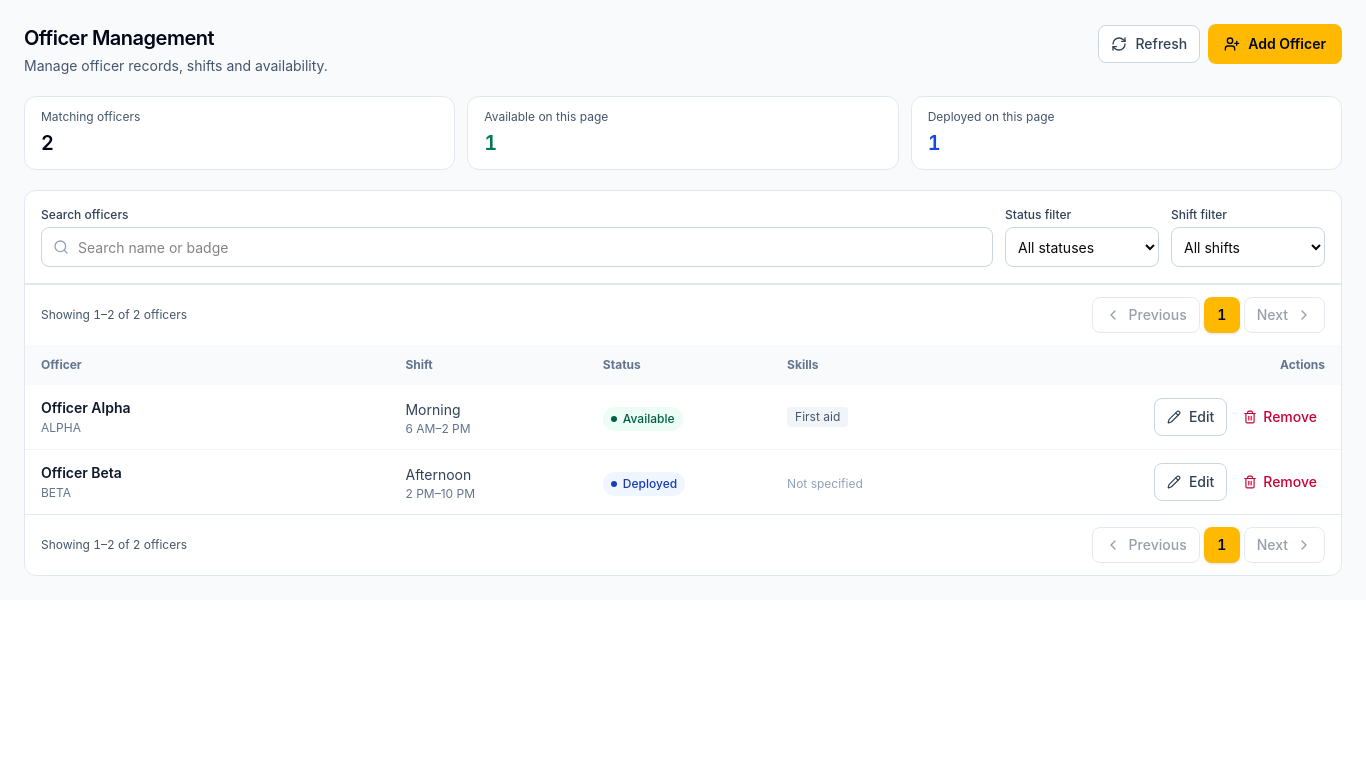
Scenario: can find a saved officer after the post-create refresh failed without creating the officer again
This screenshot has width=1366, height=768.
Expected: the button with aria-label "Edit Officer Alpha" is shown, [1154,398,1227,436]
Click the button "Add Officer".
click(1275, 44)  # box [1208,24,1342,64]
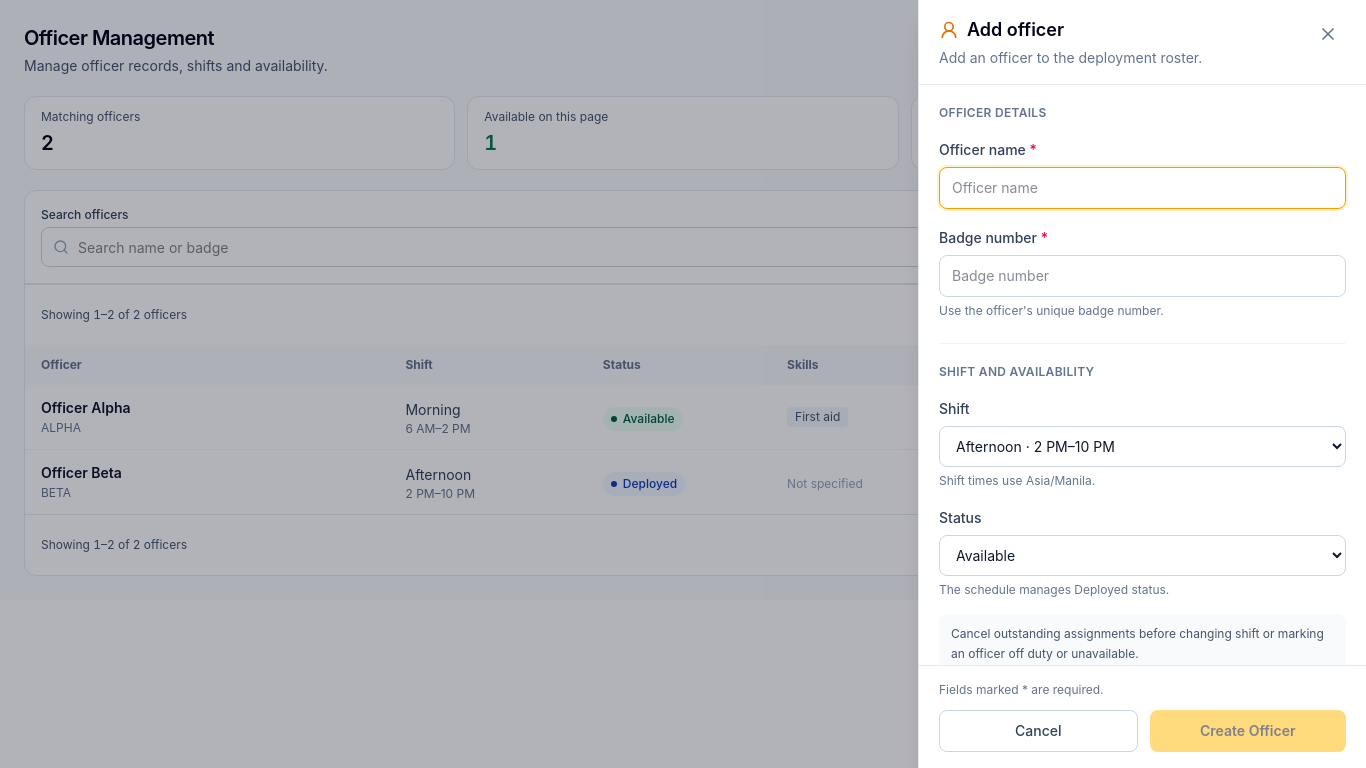
Type "Officer Gamma" into the field labelled "Officer name *".
click(1142, 188); type("Officer Gamma")  # box [939,167,1346,209]
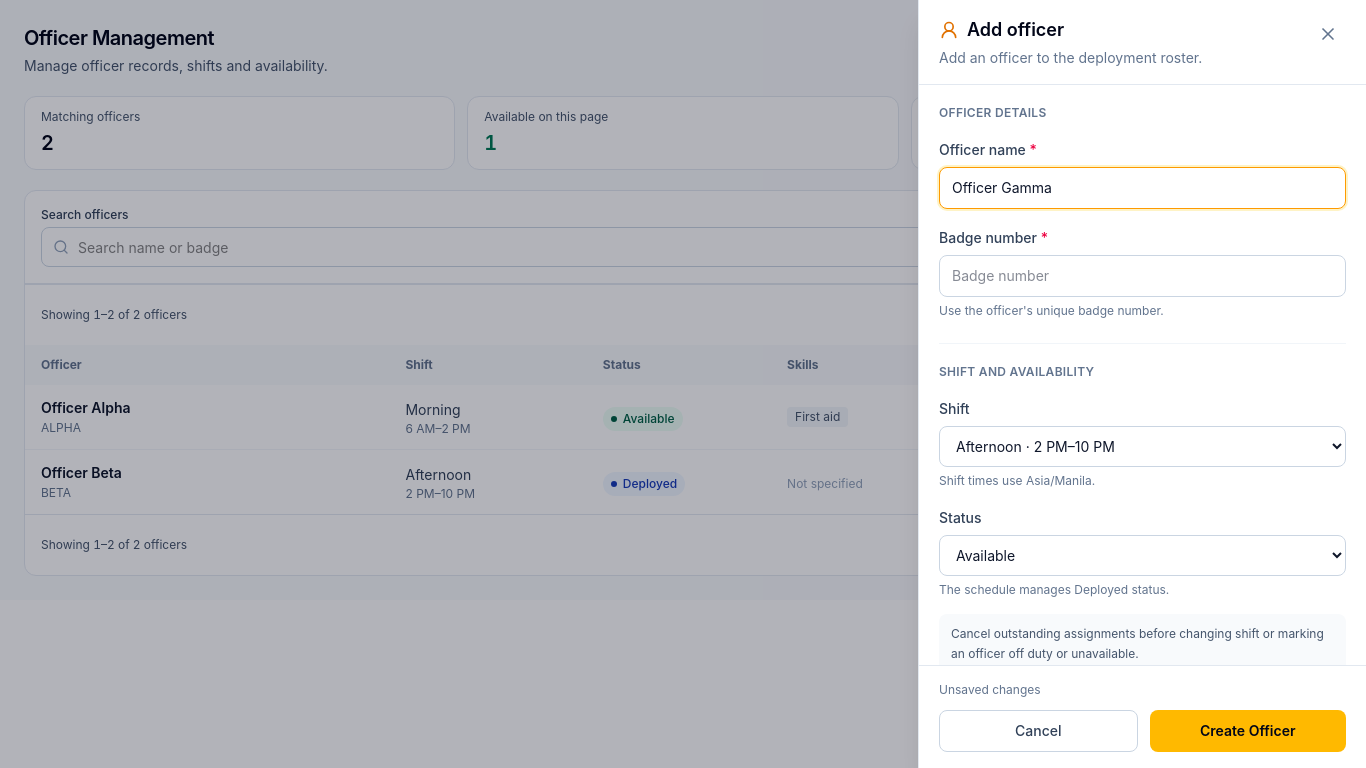
Type "GAMMA" into the field labelled "Badge number *".
click(1142, 276); type("GAMMA")  # box [939,255,1346,297]
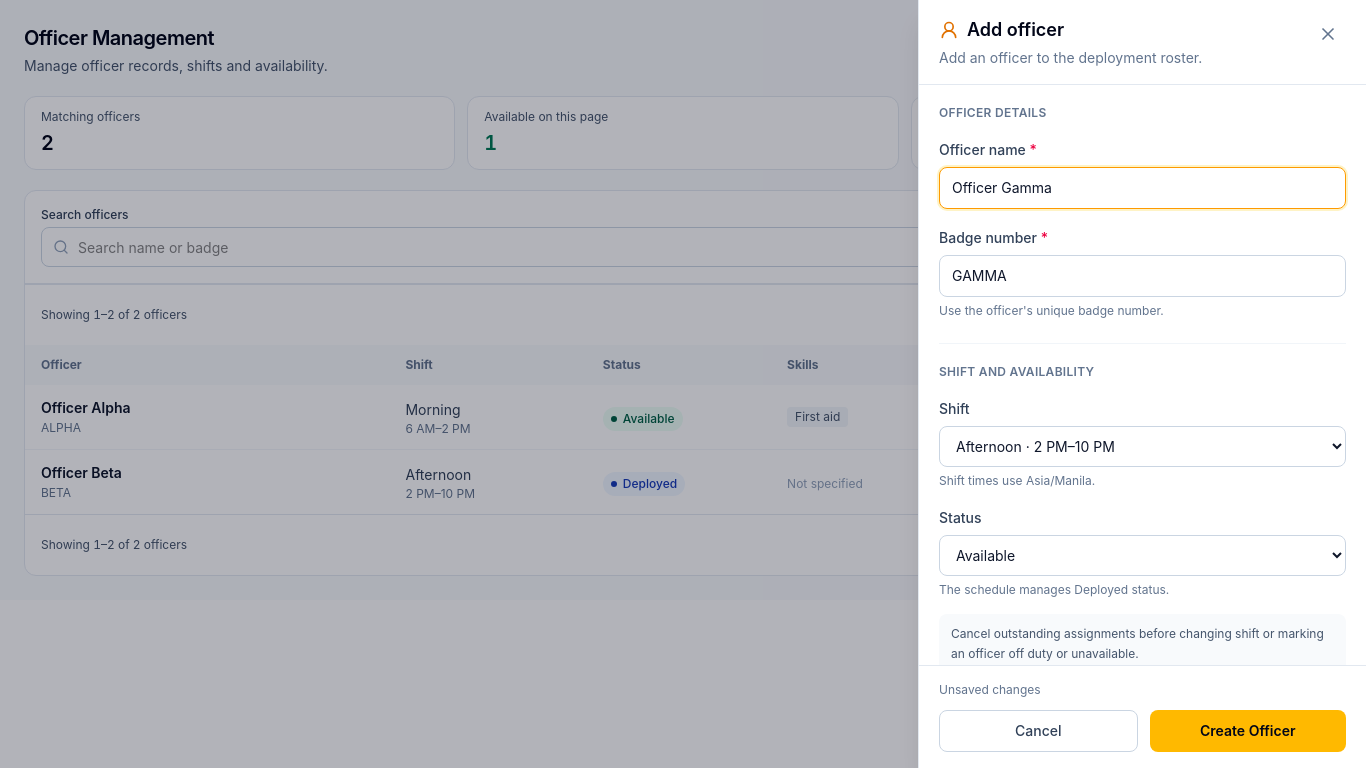
Click the button "Create Officer".
click(1248, 731)  # box [1150,710,1346,752]
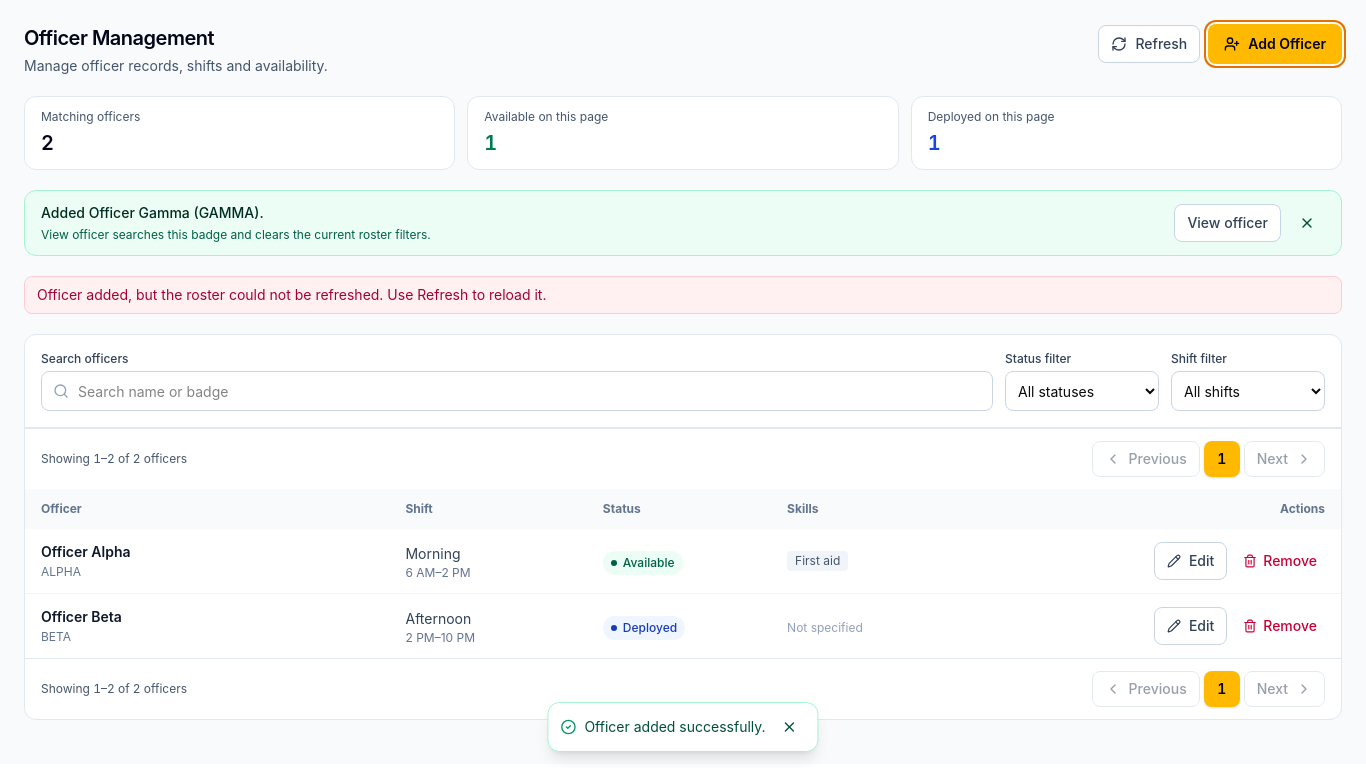
Now the 1st message shows "Officer added, but the roster could not be refreshed", box [37,286,546,303]
Click the button "View officer".
click(1228, 223)  # box [1174,204,1281,242]
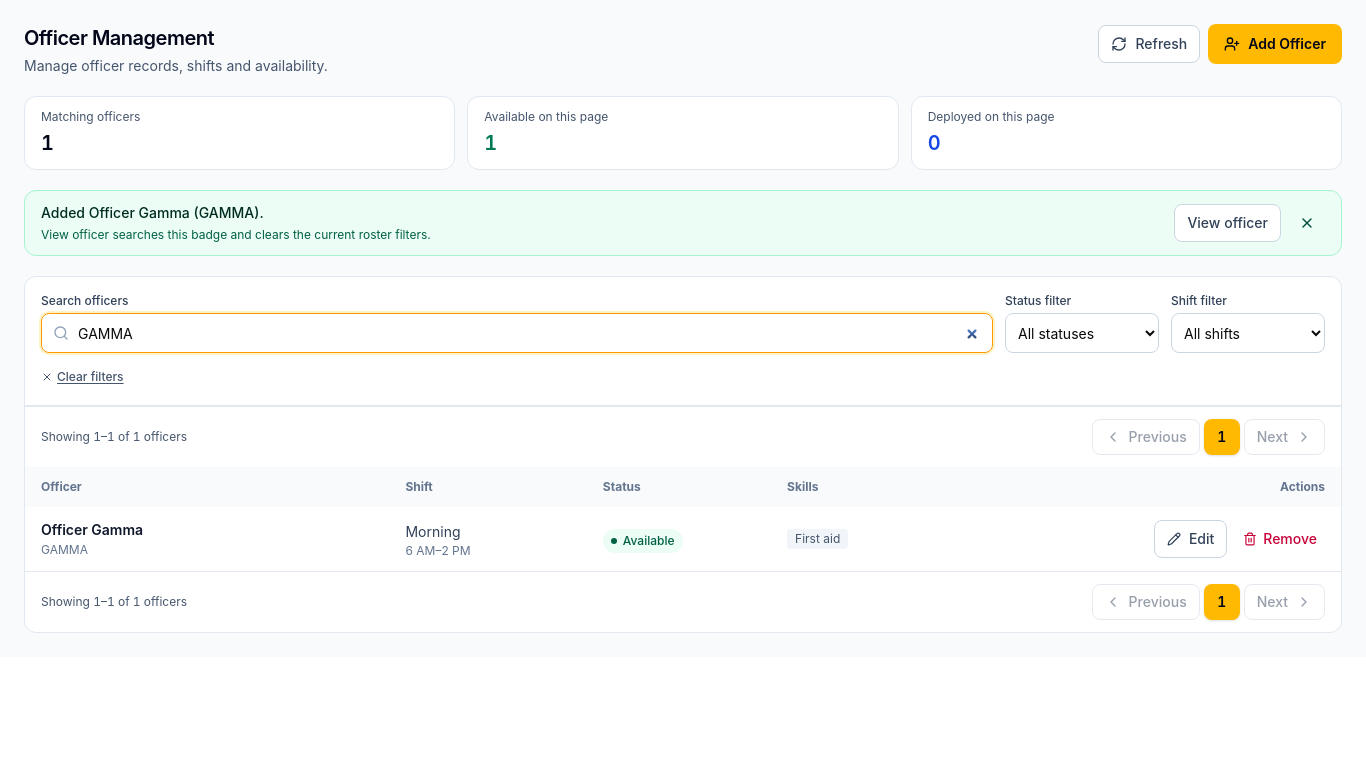
Now the button with aria-label "Edit Officer Gamma" is shown, box [1154,520,1227,558]
